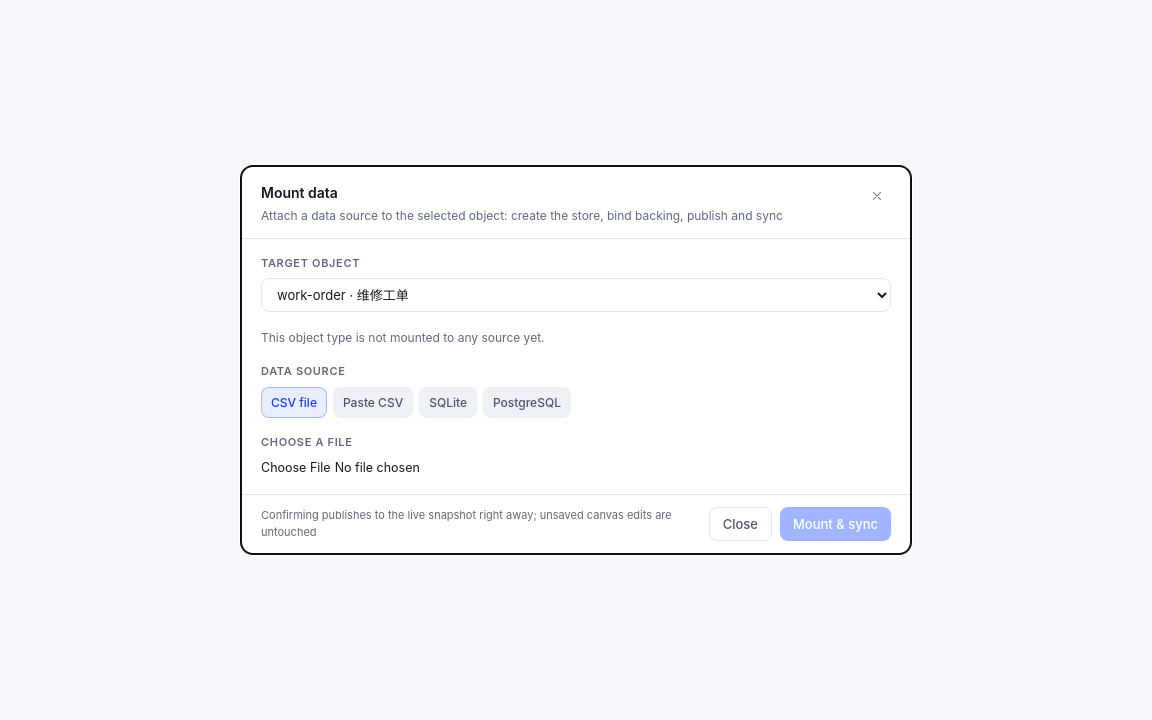
it: DataMountDialog › switches to SQL fields and sends the DSN contract
Expected: the button with test id "mount-kind-postgres" is shown, [483,387,571,418]
Click the button with test id "mount-kind-sqlite": [448, 403] box [419,387,477,418]
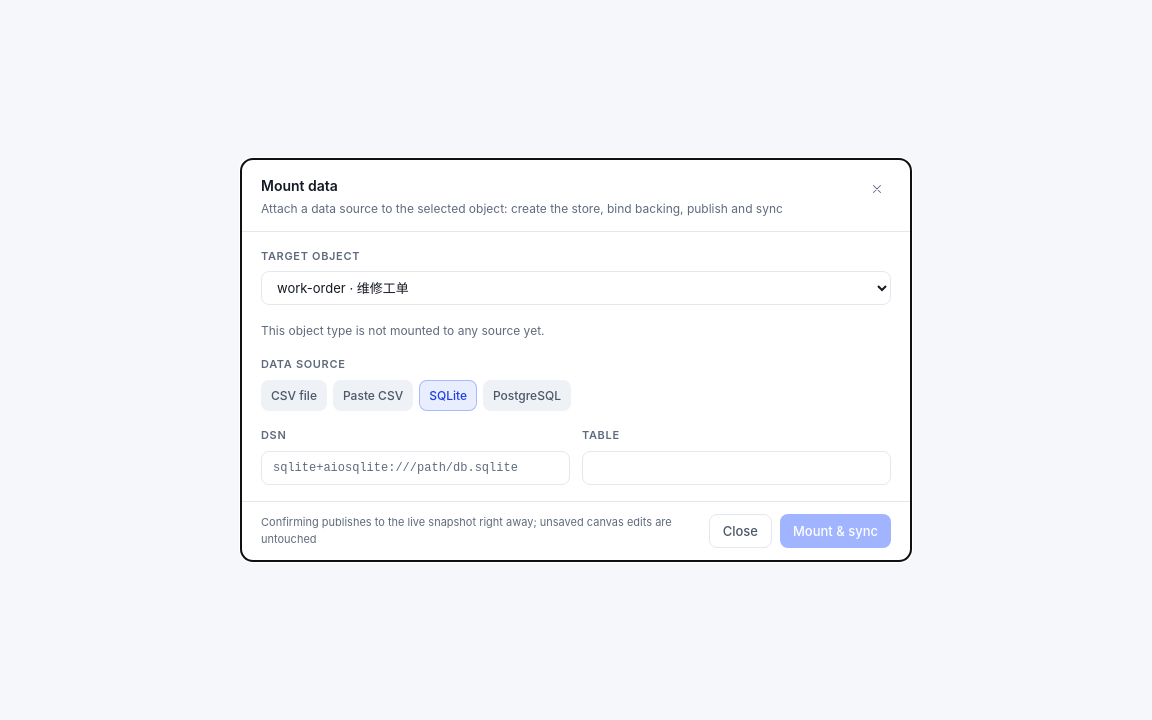
In the field with test id "mount-dsn": [416, 468] box [261,451,570,485], type "sqlite+aiosqlite:///x.db"
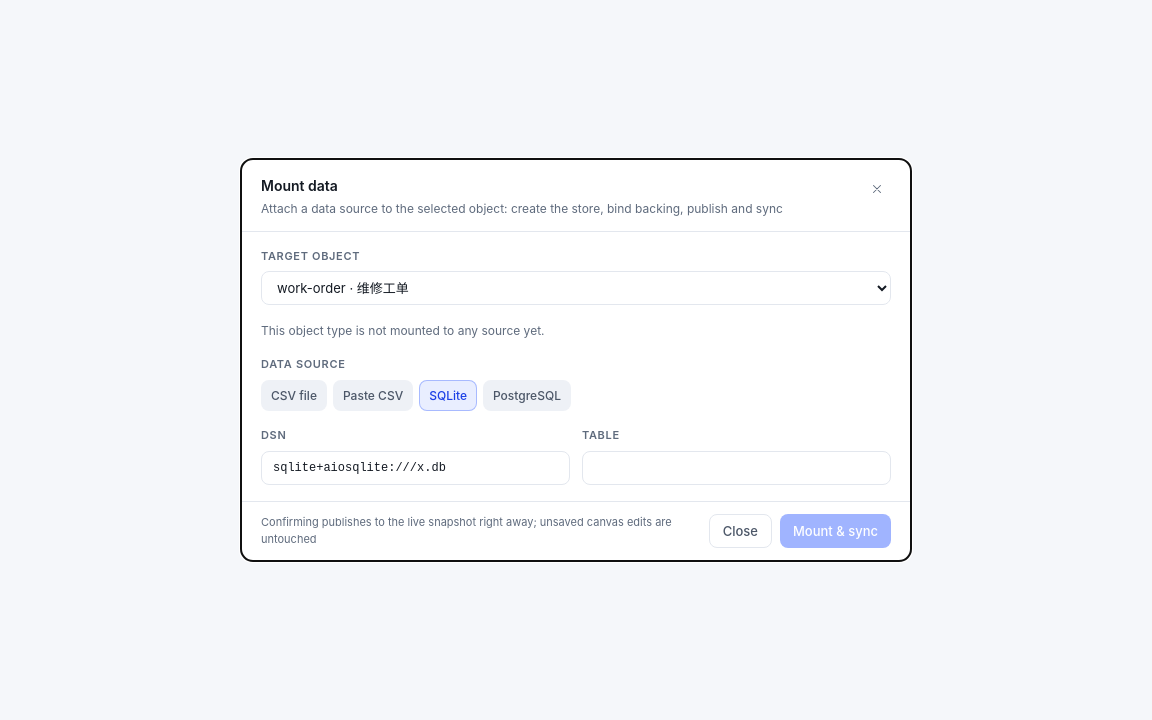
In the field with test id "mount-table": [736, 468] box [582,451,891,485], type "work_orders"
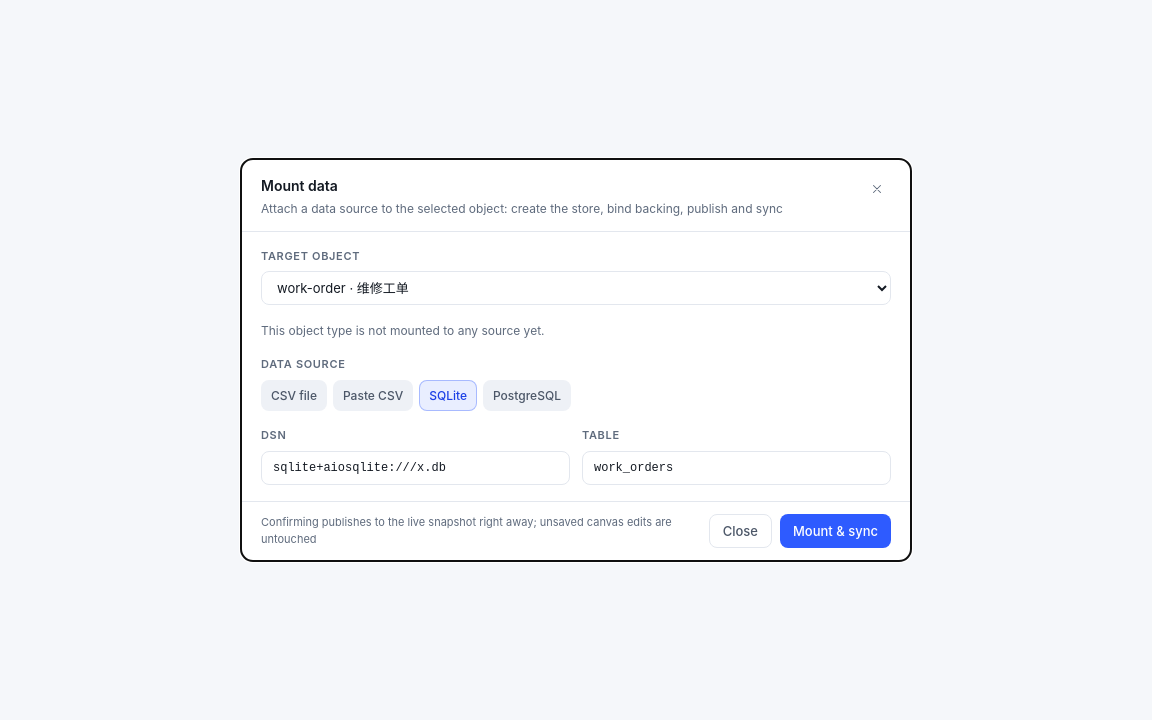
Click the button with test id "mount-submit": [836, 531] box [780,514,891,548]
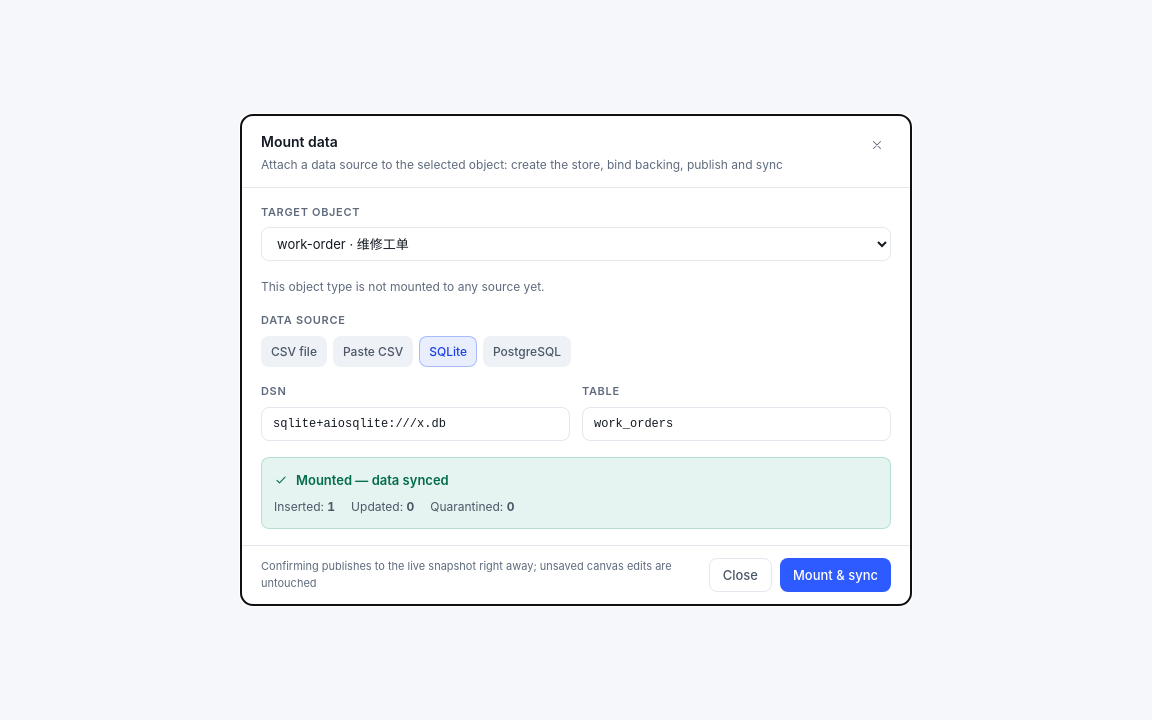
Now the element with test id "mount-result" is shown, box [261,457,891,529]
